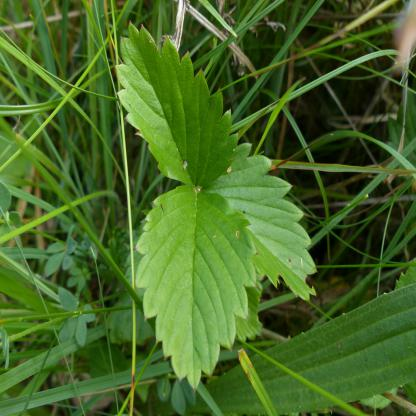Strawberry leaf: (139, 182, 260, 396), (108, 19, 242, 191), (222, 136, 323, 315)
